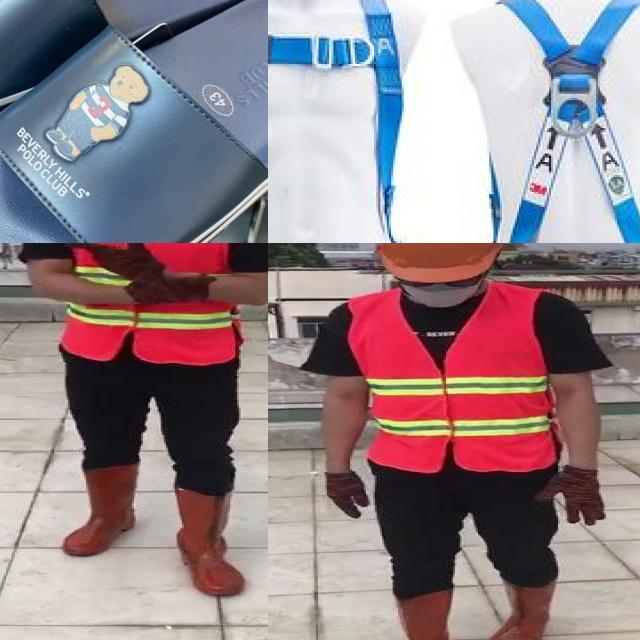Harness: (472, 0, 640, 243), (268, 0, 410, 243)
Sandals: (0, 0, 268, 243)
boots: (172, 488, 244, 596), (61, 464, 139, 557), (483, 580, 557, 640), (378, 592, 451, 640)
face_mask: (392, 270, 488, 307)
hand_glove: (75, 243, 210, 302), (535, 467, 604, 527), (322, 470, 369, 520)
head_helmet: (372, 243, 505, 281)
person: (304, 243, 615, 640), (26, 243, 266, 604)
vest: (346, 288, 558, 471), (54, 243, 240, 366)
